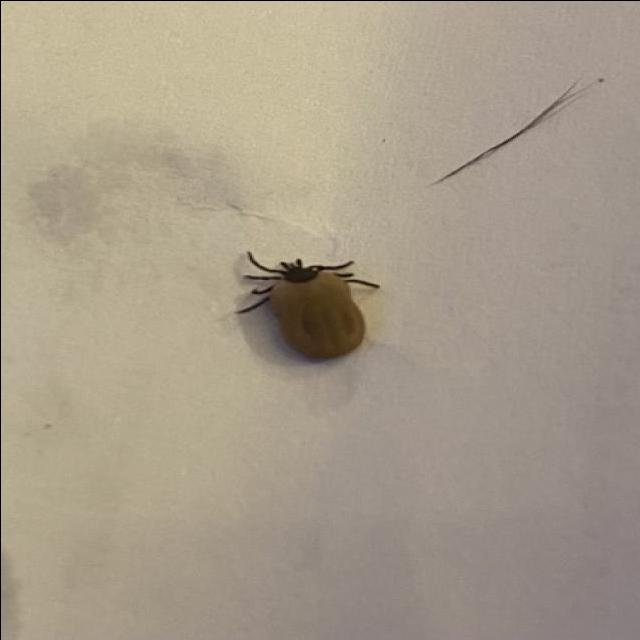Ixodes Ricinus-F-Fed: (232, 252, 381, 361)
